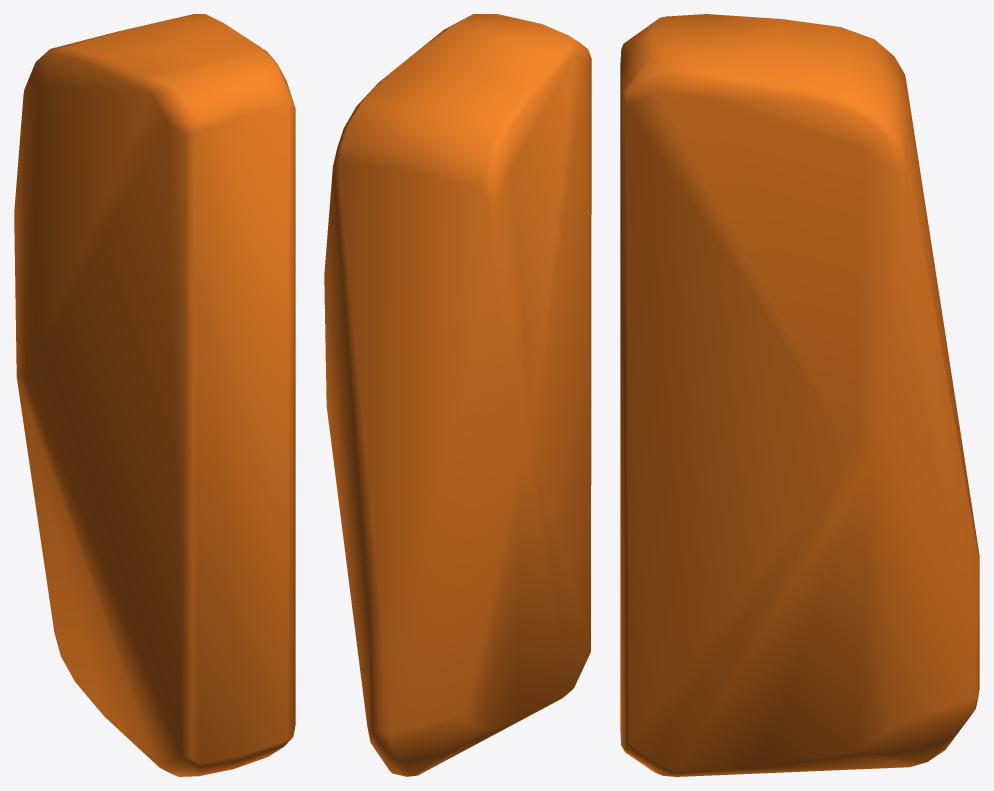
The picture shows the model from 3 angles, left to right: view 1: azimuth 30°, elevation 25°; view 2: azimuth 150°, elevation 25°; view 3: azimuth 270°, elevation 25°; orthographic projection. The views are drawn at different scales.
Parts seen in each view (by area): view 1: gripper_frame; view 2: gripper_frame; view 3: gripper_frame.
Boxes of the visible parts, bbox=[...] form: gripper_frame: bbox=[14, 14, 295, 776]; gripper_frame: bbox=[324, 14, 591, 776]; gripper_frame: bbox=[620, 14, 979, 776].
Bounding box in the file's own units: 0.0633 × 0.2044 × 0.0919.
